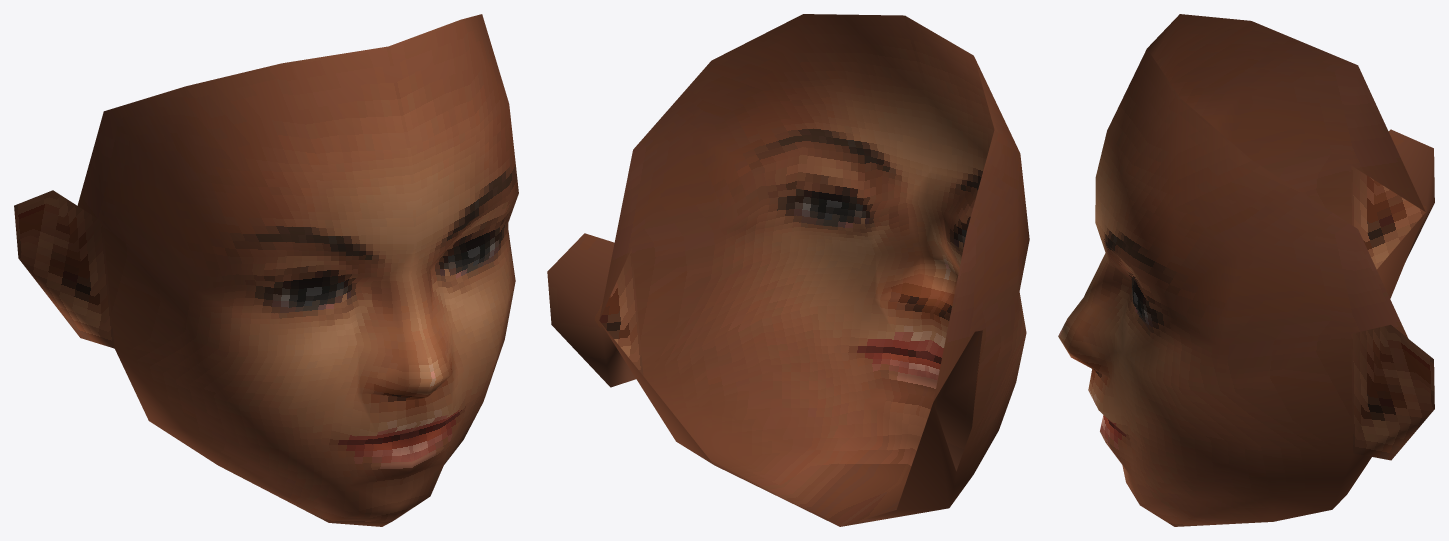
The picture shows the model from 3 angles, left to right: view 1: azimuth 30°, elevation 25°; view 2: azimuth 150°, elevation 25°; view 3: azimuth 270°, elevation 25°; orthographic projection. The views are drawn at different scales.
Visible parts, largest first — view 1: editpl_f-0000-1842, editpl_f-0000-1841; view 2: editpl_f-0000-1842, editpl_f-0000-1841; view 3: editpl_f-0000-1842, editpl_f-0000-1841.
Boxes of the visible parts, x1,y1,x2,y2 form: editpl_f-0000-1842: [14, 14, 518, 392]; editpl_f-0000-1841: [102, 222, 515, 526]; editpl_f-0000-1842: [547, 14, 1029, 471]; editpl_f-0000-1841: [599, 248, 1026, 526]; editpl_f-0000-1842: [1058, 14, 1434, 460]; editpl_f-0000-1841: [1059, 166, 1425, 526].
Size of the model in its own units: 19.4 by 20.01 by 14.65.
